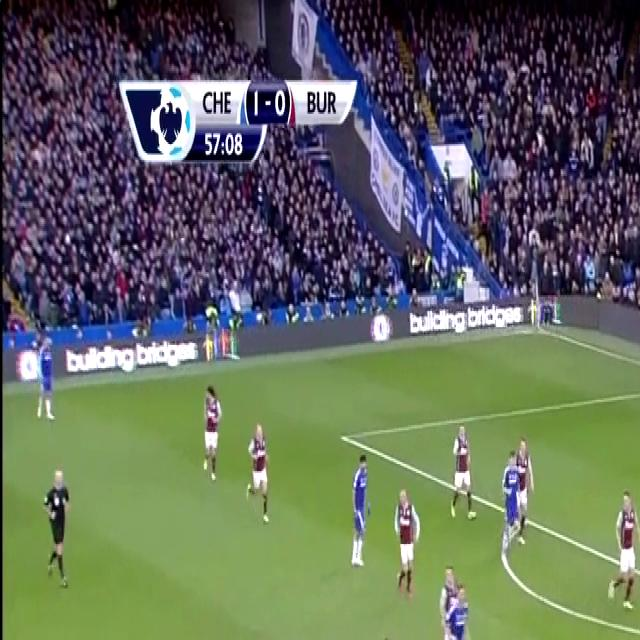referee: (39, 458, 78, 596)
soccer-player: (600, 478, 640, 620), (390, 475, 428, 604), (242, 408, 279, 530), (498, 428, 533, 554), (348, 450, 382, 579), (444, 413, 476, 529), (196, 375, 228, 490), (433, 574, 477, 640), (36, 331, 63, 428), (354, 626, 410, 640)
